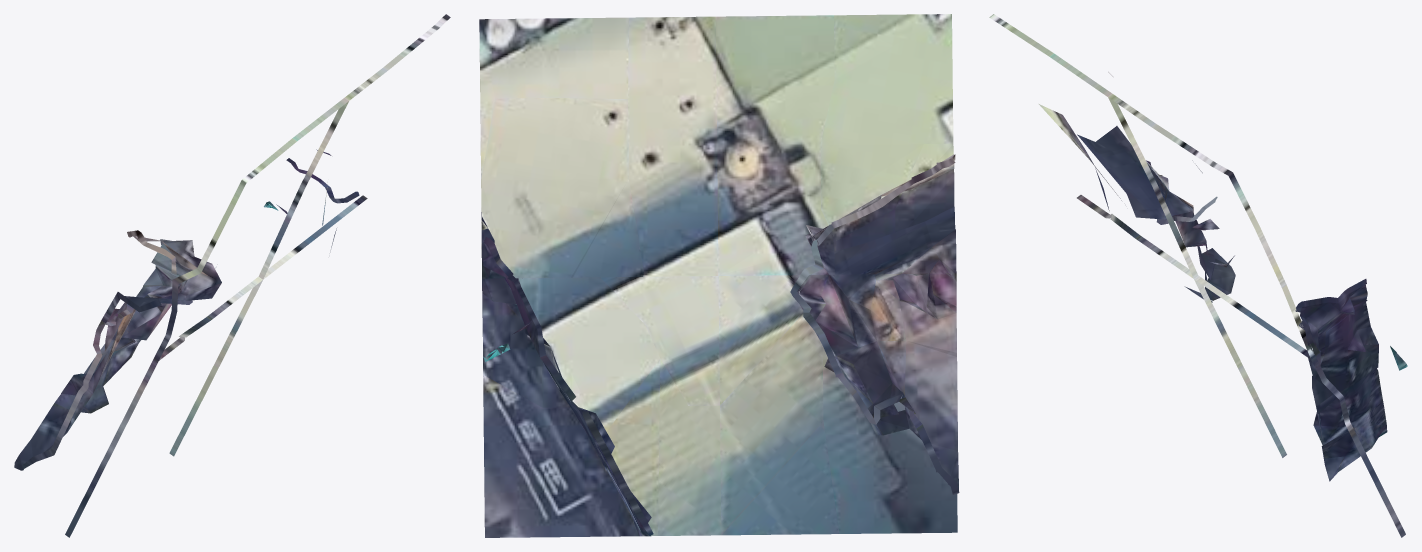
The picture shows the model from 3 angles, left to right: view 1: azimuth 30°, elevation 25°; view 2: azimuth 150°, elevation 25°; view 3: azimuth 270°, elevation 25°; orthographic projection. The views are drawn at different scales.
Size of the model in its own units: 40.28 by 35 by 32.32.
Materials: 1 (1 with a texture image).
